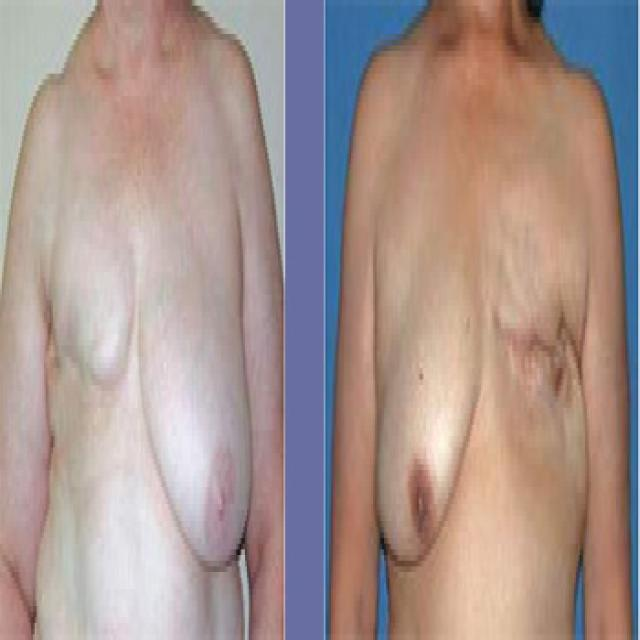Seno herido: (486, 187, 594, 466), (39, 214, 136, 444)
Seno ileso: (137, 213, 255, 602), (372, 225, 485, 597)
